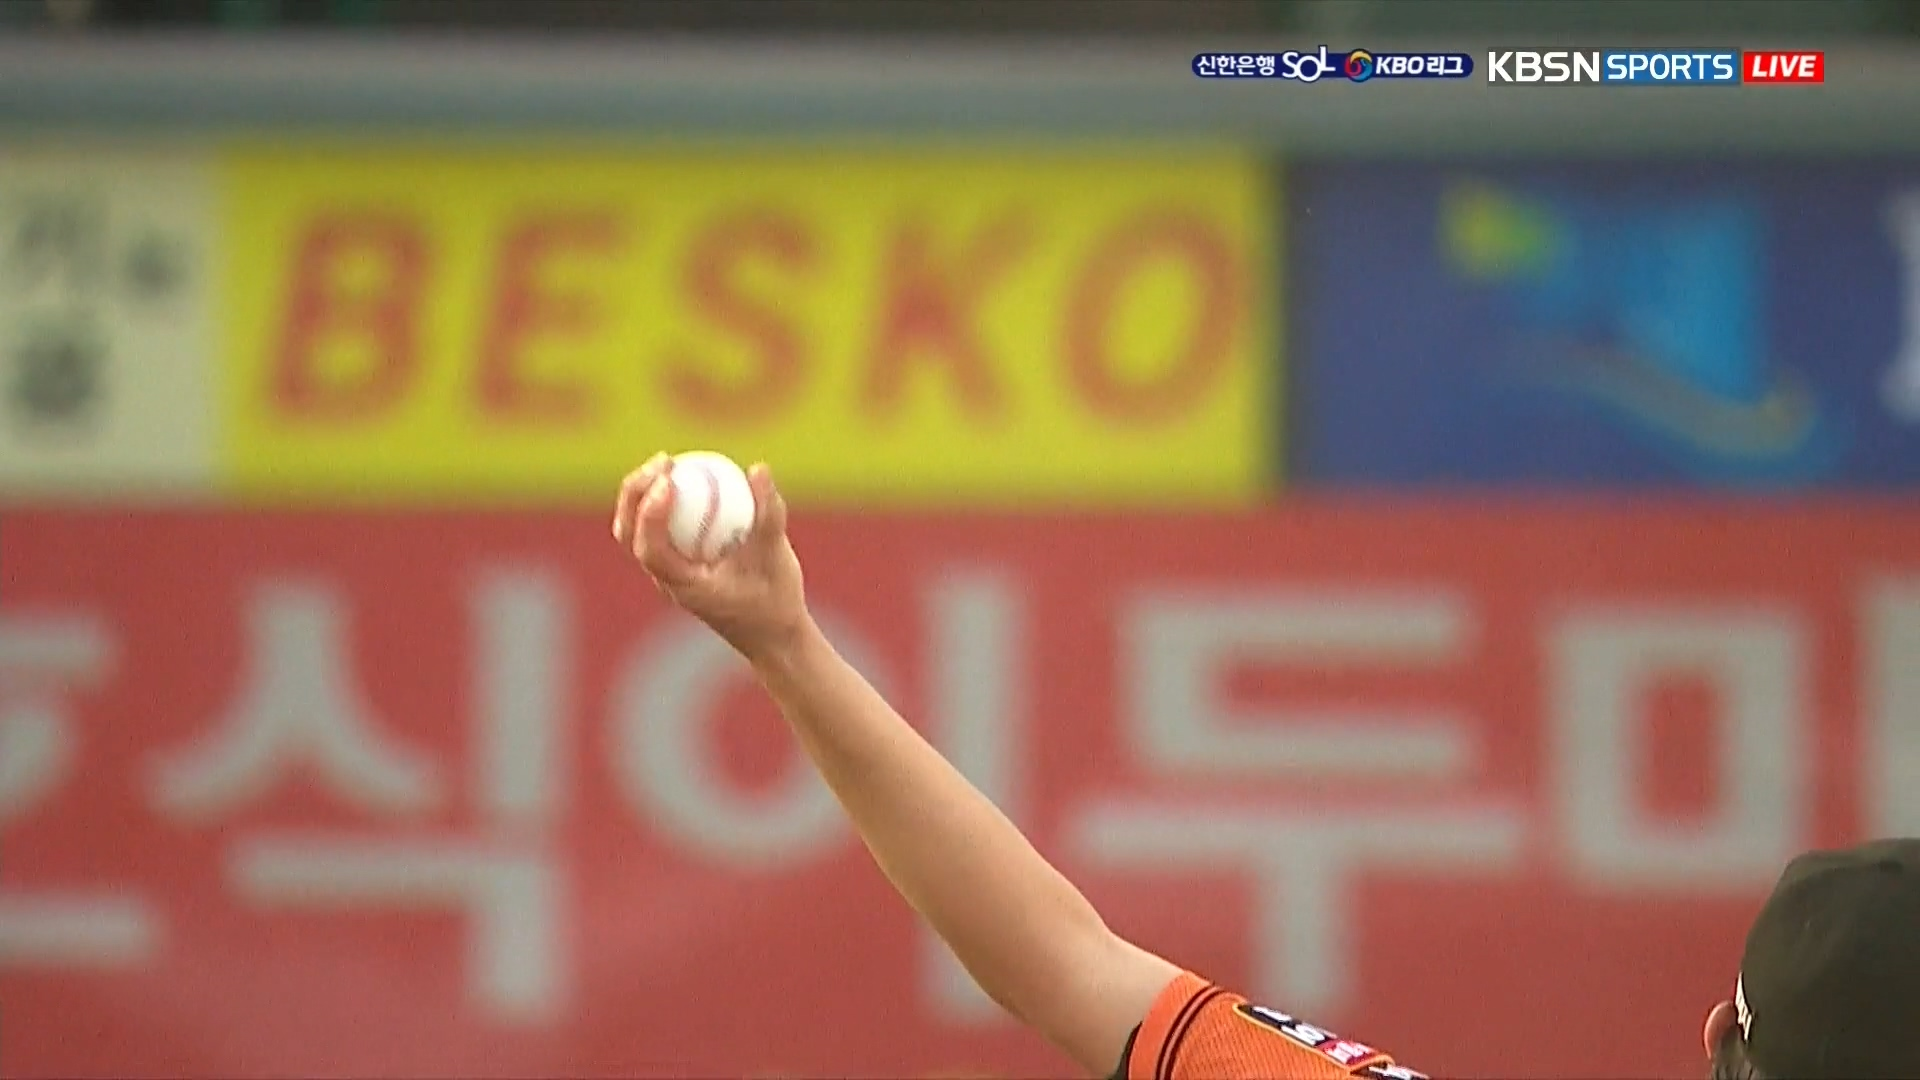zoomin_hand: (585, 419, 1142, 1035)
